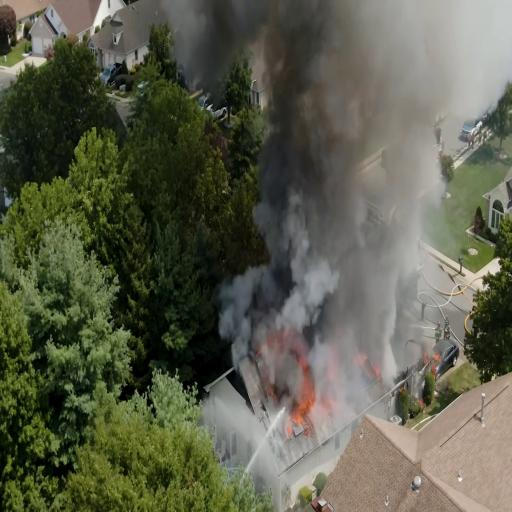smoke: (332, 2, 478, 148), (270, 127, 384, 307), (255, 0, 368, 133)
